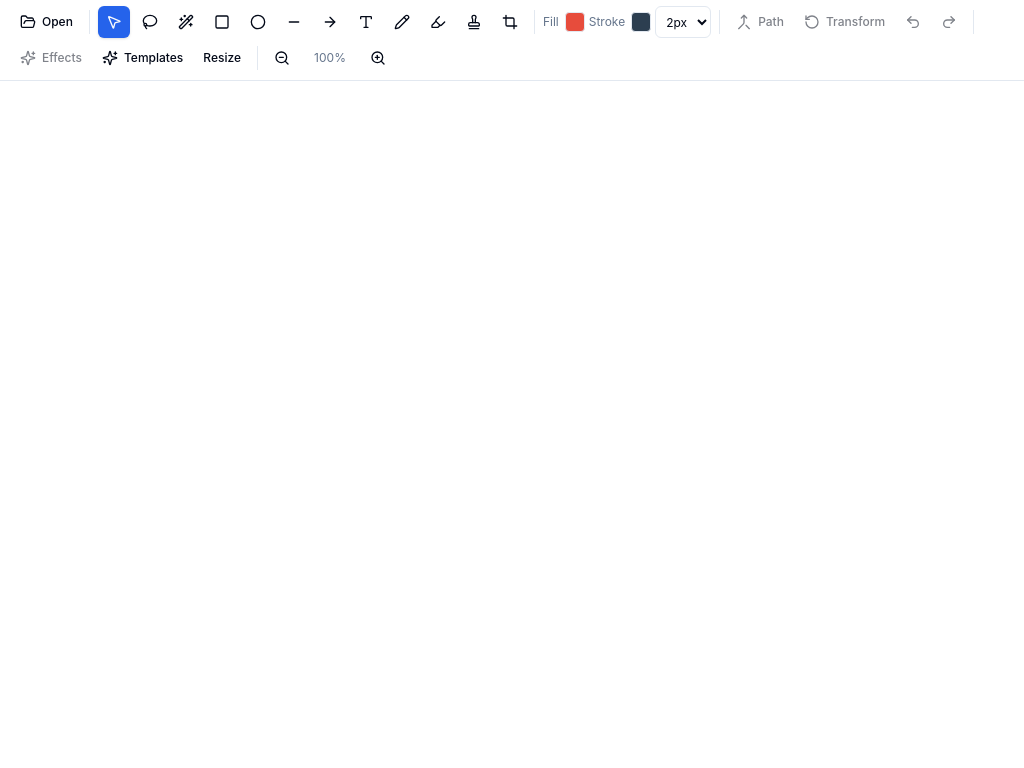
Test case: Resize dialog › opens when Resize button is clicked
Click the button "Resize".
click(222, 58)  # box [195,42,249,74]
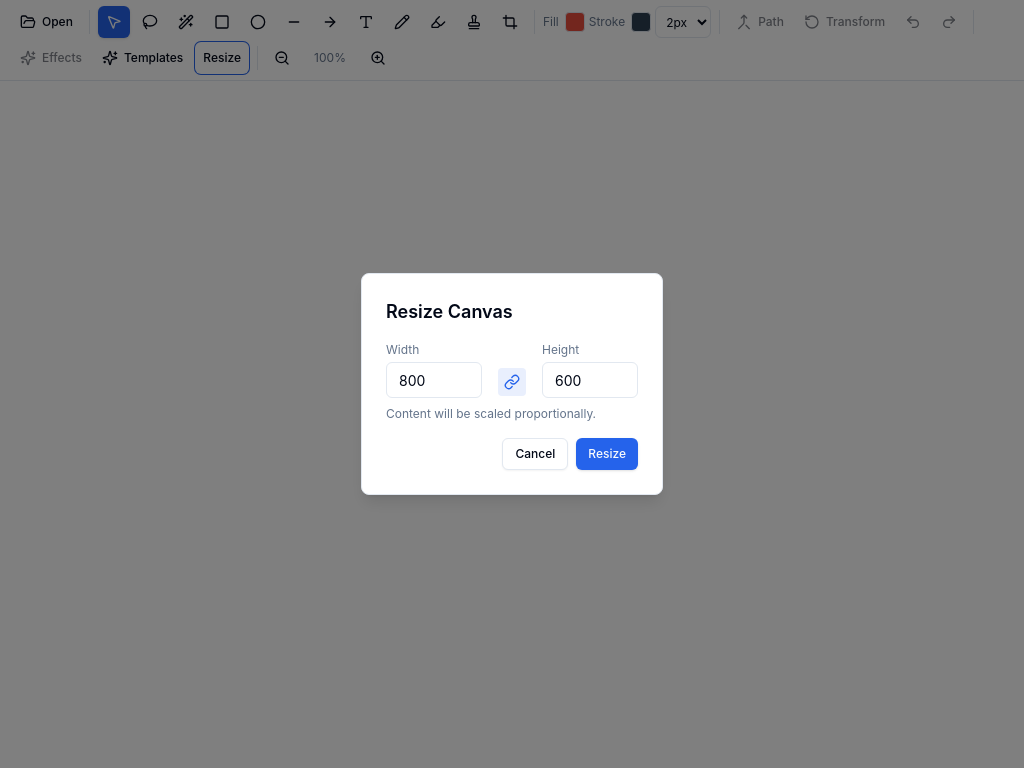
Expected: the heading "Resize Canvas" is shown, [386,301,513,322]
Expected: the text "Width" is shown, [386,342,419,357]
Expected: the text "Height" is shown, [542,342,579,357]
